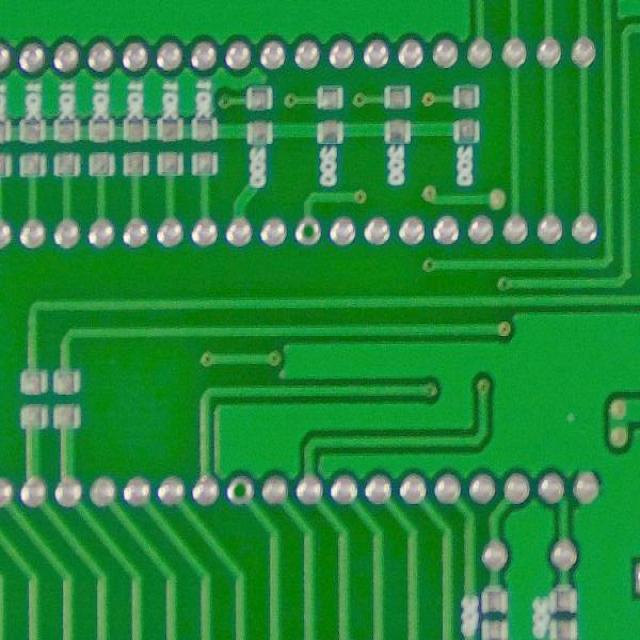missing hole: (220, 475, 259, 512), (292, 216, 326, 249)
